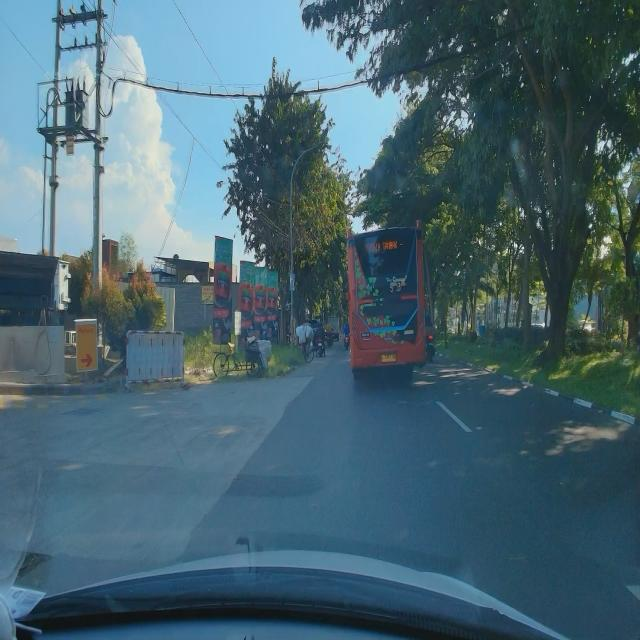bus: (347, 218, 427, 382)
license-plate: (381, 354, 396, 363)
